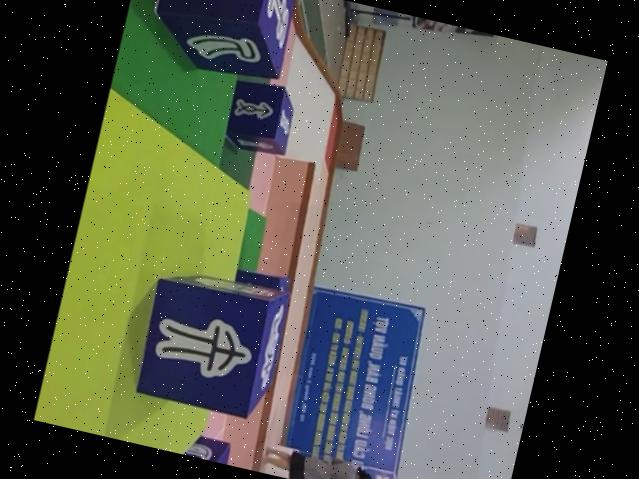R2 Fake Blue: (127, 257, 291, 419), (136, 0, 296, 80)
R2 Real Blue: (218, 72, 298, 158), (159, 424, 230, 463)
